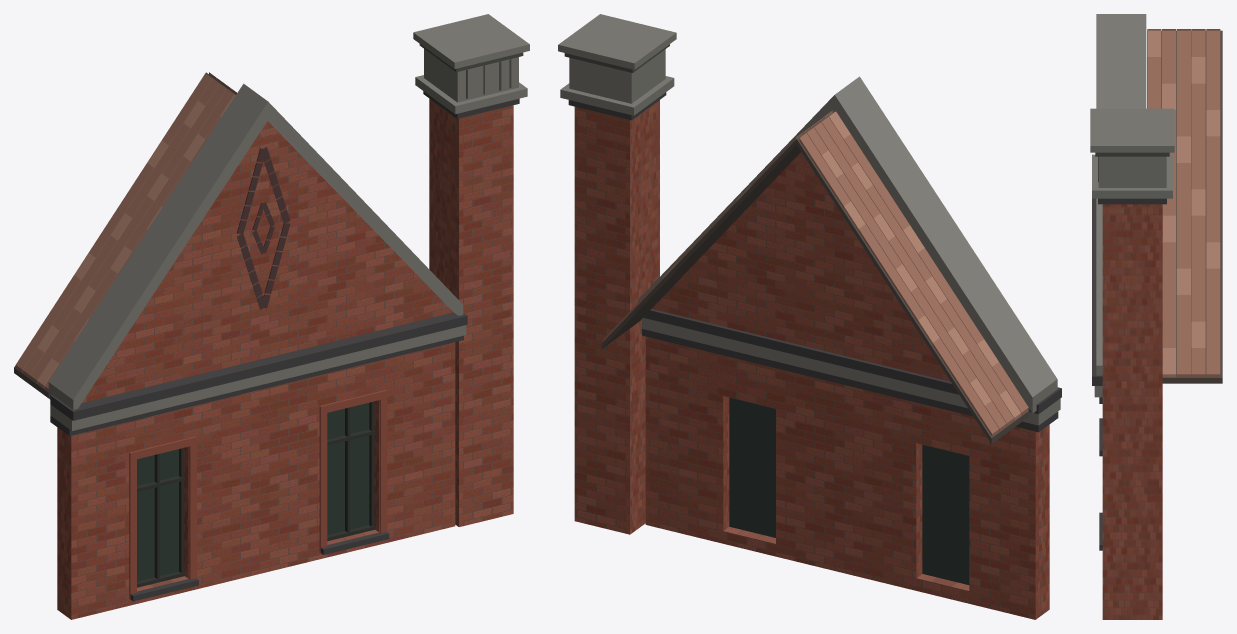
The model's file is changning-lixi-garden-diamond-gable-lod.glb.
3 renders of one model, left to right at view 1: azimuth 30°, elevation 25°; view 2: azimuth 150°, elevation 25°; view 3: azimuth 270°, elevation 25°, orthographic.
Parts seen in each view (by area): view 1: 利西路花园住宅菱形砖饰山墙与方烟囱; view 2: 利西路花园住宅菱形砖饰山墙与方烟囱; view 3: 利西路花园住宅菱形砖饰山墙与方烟囱.
Boxes of the visible parts, x1,y1,x2,y2 form: 利西路花园住宅菱形砖饰山墙与方烟囱: [14, 14, 529, 619]; 利西路花园住宅菱形砖饰山墙与方烟囱: [558, 14, 1061, 619]; 利西路花园住宅菱形砖饰山墙与方烟囱: [1090, 14, 1222, 619].
Size of the model in its own units: 5.34 by 5.32 by 1.32.
11 materials, 1 textured.
